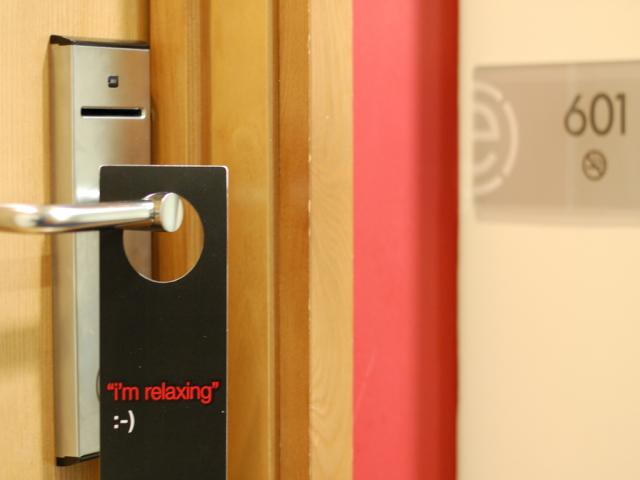Door-handle: (0, 33, 185, 467)
